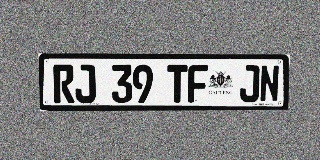3: (112, 65, 132, 103)
9: (133, 65, 153, 103)
F: (188, 65, 208, 103)
J: (75, 64, 96, 103), (239, 65, 260, 102)
N: (259, 65, 280, 102)
R: (53, 64, 75, 103)
T: (167, 65, 187, 103)
